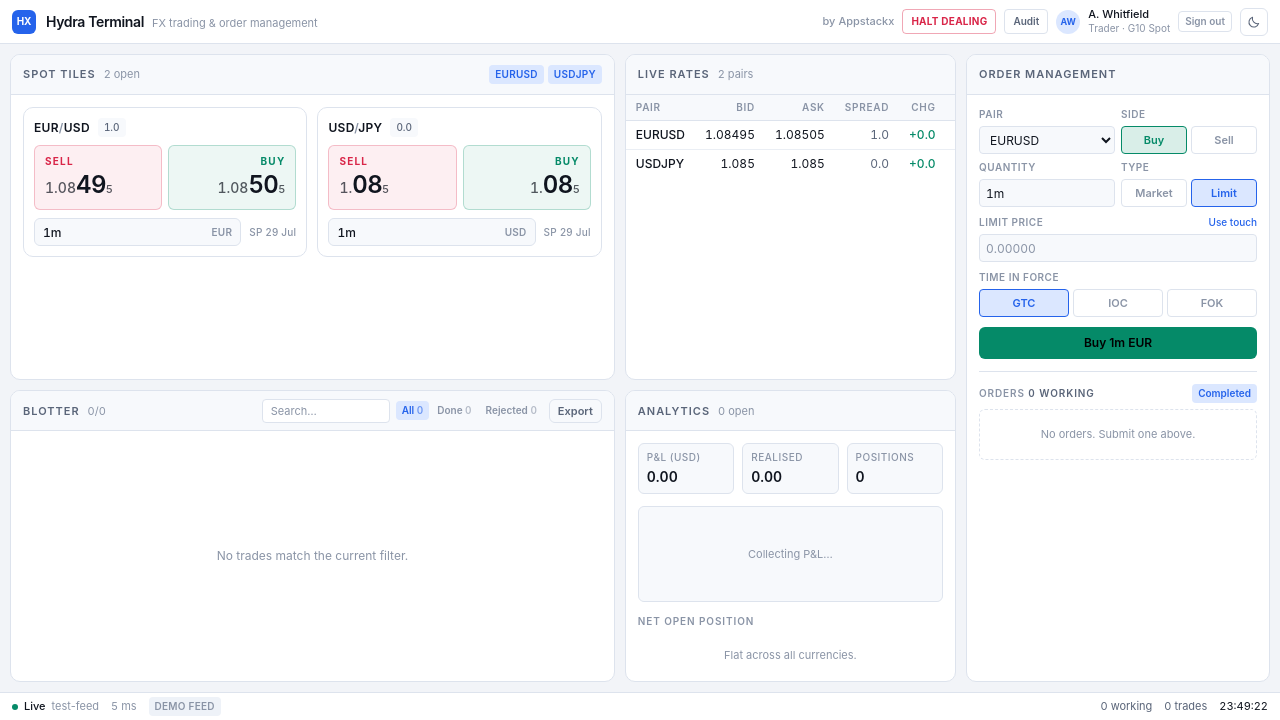
Test: App › closes and reopens a tile from the instrument chips
Click the button with test id "tile-toggle-EURUSD" at point(517, 74), box [489, 65, 544, 84]
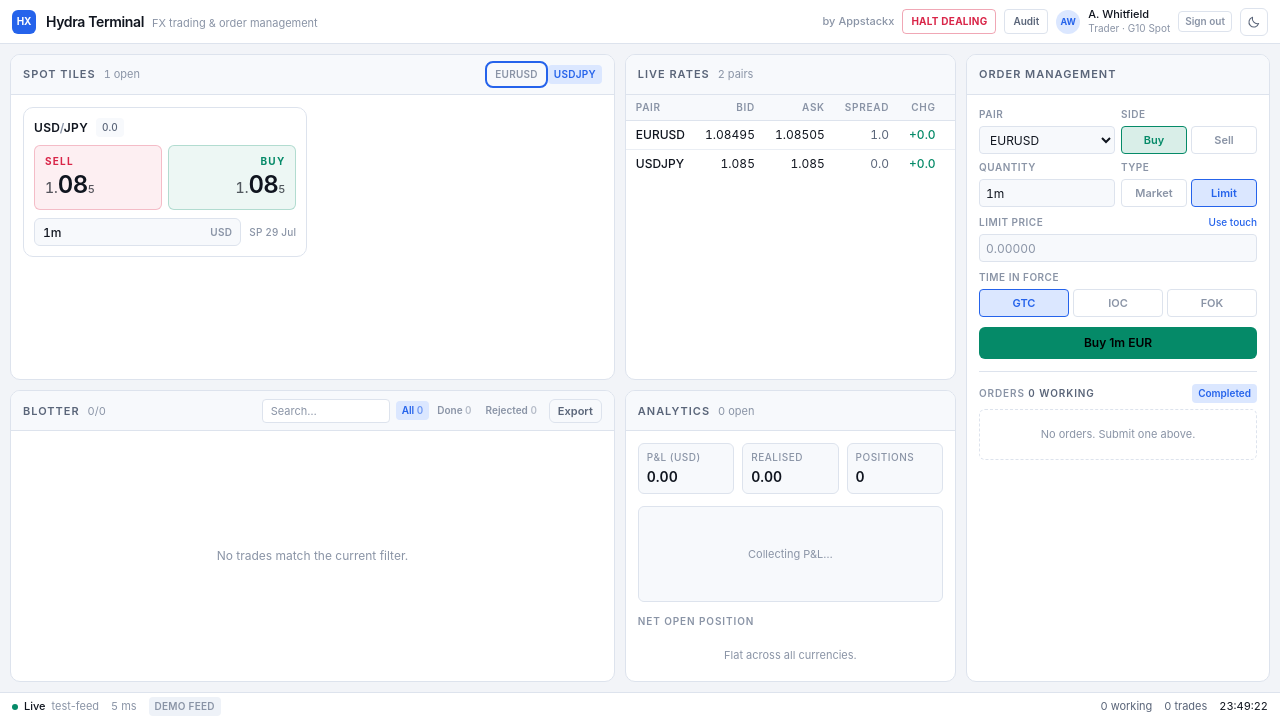
Expected: the element with test id "spot-tile-EURUSD" is gone
Click the button with test id "tile-toggle-EURUSD" at point(517, 74), box [489, 65, 544, 84]
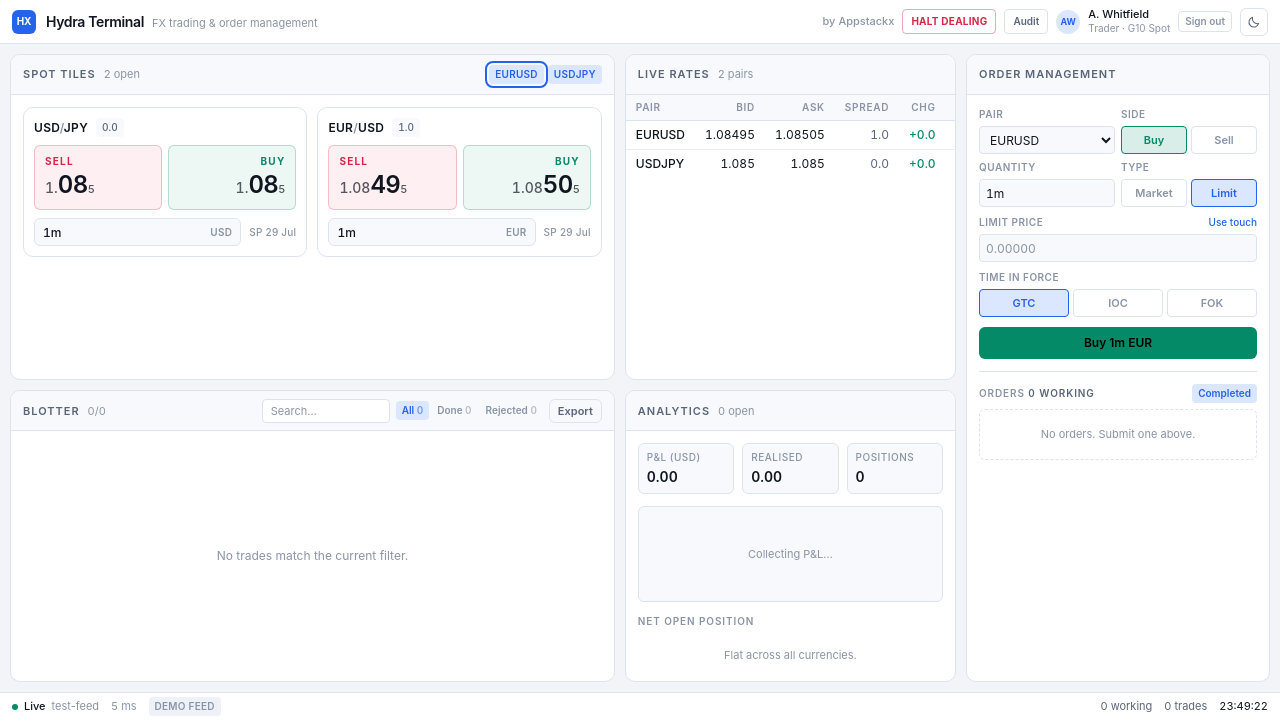
Expected: the element with test id "spot-tile-EURUSD" is shown, [317, 107, 602, 257]
